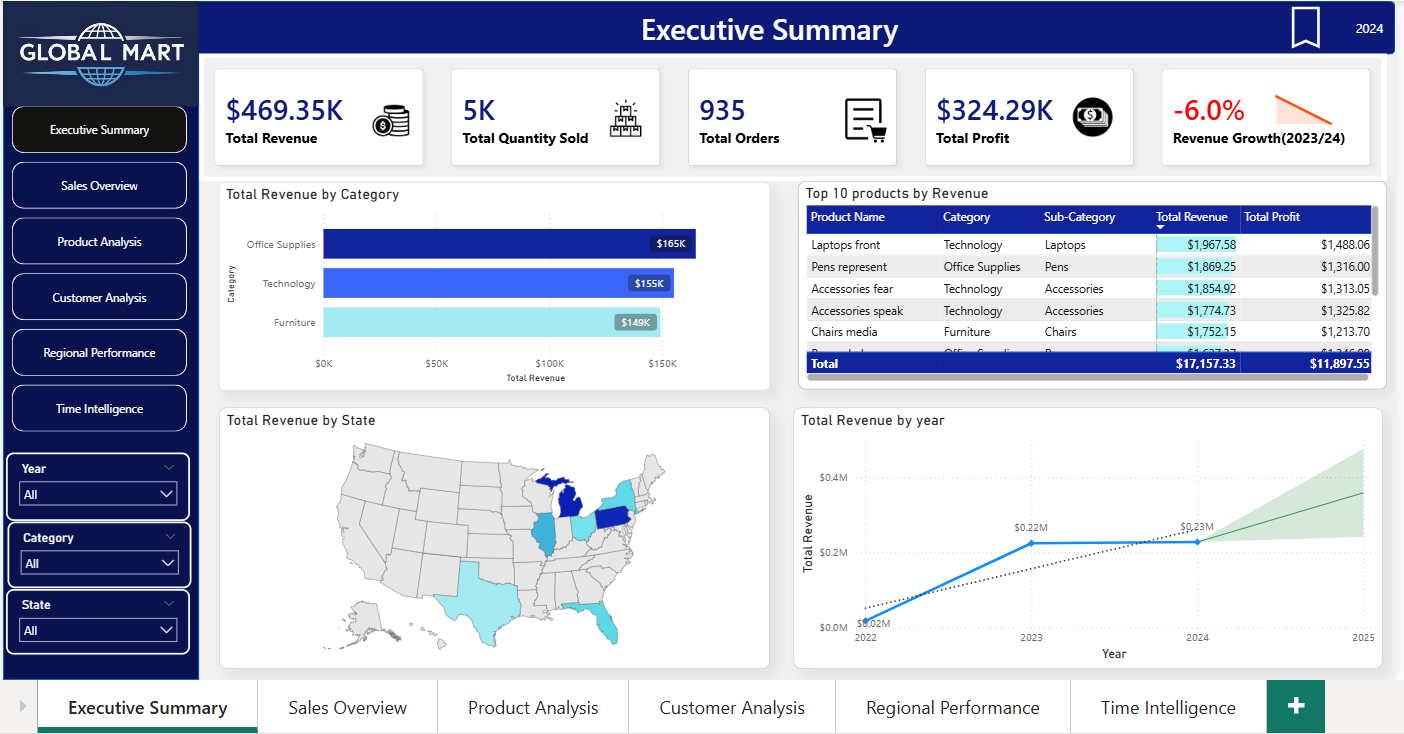

What the dashboard file says about the page in this screenshot:
{"tool":"powerbi","page":{"name":"Executive Summary","canvas":[1600,780],"ordinal":0},"visuals":[{"type":"shape","box":[0,0,225.2,779.8],"z":0},{"type":"shape","box":[162.4,0,1437.4,61.5],"z":1000},{"type":"cardVisual","fields":{"Data":["Sales_Fact.Total Revenue","Sales_Fact.Total Quantity Sold","Sales_Fact.Total Orders","Sales_Fact.Total Profit","Sales_Fact.Revenue YoY Growth %"]},"box":[225,60.7,1364.3,146.4],"z":2000},{"type":"clusteredBarChart","fields":{"Y":["Sales_Fact.Total Revenue"],"Category":["Products_Dim.Category"]},"box":[248.1,207.7,632.7,238.5],"z":3000},{"type":"tableEx","title":"Top 10 products by Revenue","fields":{"Values":["Products_Dim.Product Name","Products_Dim.Category","Products_Dim.Sub-Category","Sales_Fact.Total Revenue","Sales_Fact.Total Profit"]},"box":[912.5,207.1,676.8,239.3],"z":4000},{"type":"shapeMap","fields":{"Value":["Sales_Fact.Total Revenue"],"Category":["Geography_Dim.State"]},"box":[248.1,467.3,632.7,300],"z":5000},{"type":"lineChart","title":"Total Revenue by year","fields":{"Y":["Sales_Fact.Total Revenue"],"Category":["Calendar_Dim.Year"]},"box":[907.7,467.3,676.9,300],"z":6000},{"type":"slicer","fields":{"Values":["Calendar_Dim.Year"]},"box":[3.8,519.2,211.5,78.8],"z":7000},{"type":"slicer","fields":{"Values":["Products_Dim.Category"]},"box":[5.8,598.1,211.5,76.9],"z":8000},{"type":"slicer","fields":{"Values":["Geography_Dim.State"]},"box":[3.8,675,211.5,75],"z":9000},{"type":"pageNavigator","box":[9.6,121.2,201.9,378.8],"z":10000},{"type":"image","box":[0,0,224.5,121],"z":11000},{"type":"image","box":[412.7,112.7,63.6,50.9],"z":12000},{"type":"image","box":[661.8,112.7,107.3,45.5],"z":13000},{"type":"image","box":[945.5,112.7,90.9,50.9],"z":14000},{"type":"image","box":[1223.2,100,57.1,66.1],"z":15000},{"type":"lineChart","title":"Total Revenue by year","fields":{"Category":["Calendar_Dim.Year"],"Y":["Sales_Fact.Revenue YoY Growth %"]},"box":[1448.2,85.7,92.9,60.7],"z":16000},{"type":"actionButton","box":[1466.1,0,123.2,60.7],"z":17000}]}

Visuals, with their boxes in screenshot pixels (x1, y1, x2, y2):
shape: x1=0, y1=48, x2=195, y2=722
shape: x1=141, y1=48, x2=1384, y2=101
cardVisual - Sales_Fact.Total Revenue x Sales_Fact.Total Quantity Sold: x1=195, y1=100, x2=1375, y2=227
clusteredBarChart - Sales_Fact.Total Revenue x Products_Dim.Category: x1=215, y1=227, x2=762, y2=434
"Top 10 products by Revenue" tableEx: x1=790, y1=227, x2=1375, y2=434
shapeMap - Sales_Fact.Total Revenue x Geography_Dim.State: x1=215, y1=452, x2=762, y2=712
"Total Revenue by year" lineChart: x1=785, y1=452, x2=1371, y2=712
slicer - Calendar_Dim.Year: x1=3, y1=497, x2=186, y2=565
slicer - Products_Dim.Category: x1=5, y1=565, x2=188, y2=632
slicer - Geography_Dim.State: x1=3, y1=632, x2=186, y2=697
pageNavigator: x1=8, y1=152, x2=183, y2=480
image: x1=0, y1=48, x2=194, y2=152
image: x1=357, y1=145, x2=412, y2=189
image: x1=573, y1=145, x2=666, y2=184
image: x1=818, y1=145, x2=897, y2=189
image: x1=1059, y1=134, x2=1108, y2=191
"Total Revenue by year" lineChart: x1=1253, y1=122, x2=1334, y2=174
actionButton: x1=1269, y1=48, x2=1375, y2=100
